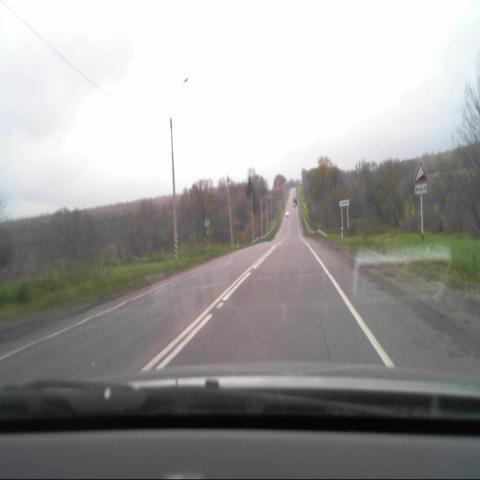1_14: (414, 161, 426, 182)
